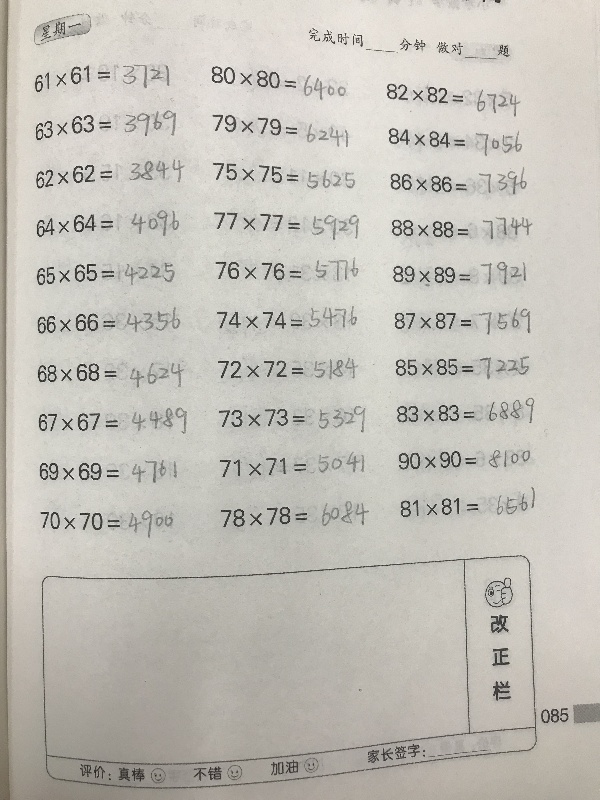equation: (36, 443, 181, 487), (383, 79, 521, 118), (30, 154, 188, 188), (35, 404, 191, 438), (216, 402, 370, 436), (33, 358, 187, 392), (32, 206, 182, 240), (210, 209, 362, 242), (393, 394, 539, 428), (217, 498, 372, 530), (389, 255, 530, 290), (37, 507, 177, 542), (31, 108, 179, 141), (396, 489, 539, 523), (209, 158, 359, 190), (390, 306, 533, 339), (384, 125, 525, 158), (33, 307, 183, 338), (30, 61, 172, 93), (207, 66, 350, 97), (386, 165, 528, 195), (33, 260, 179, 289), (215, 355, 362, 383), (213, 304, 360, 332), (216, 451, 368, 478), (391, 354, 532, 383), (387, 212, 533, 240), (207, 115, 352, 143), (394, 446, 533, 472)
